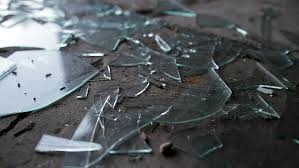glass: (1, 47, 102, 118), (153, 63, 236, 130), (91, 98, 172, 157), (60, 92, 109, 168), (110, 42, 190, 87), (223, 53, 293, 98), (1, 24, 82, 48), (32, 129, 104, 154), (241, 90, 284, 127), (185, 131, 227, 157), (122, 80, 155, 102), (149, 32, 174, 55), (1, 55, 16, 83), (105, 86, 123, 109), (74, 85, 93, 100)
